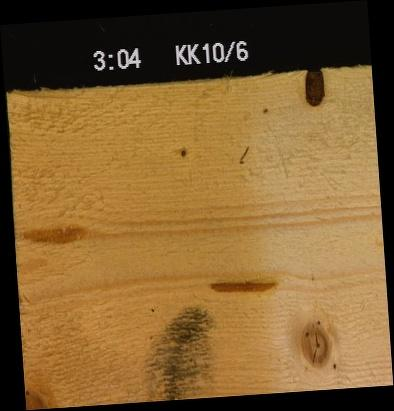edge_knot: (25, 388, 50, 409)
small_knot: (179, 147, 186, 157)
sound_knot: (298, 316, 332, 369)
